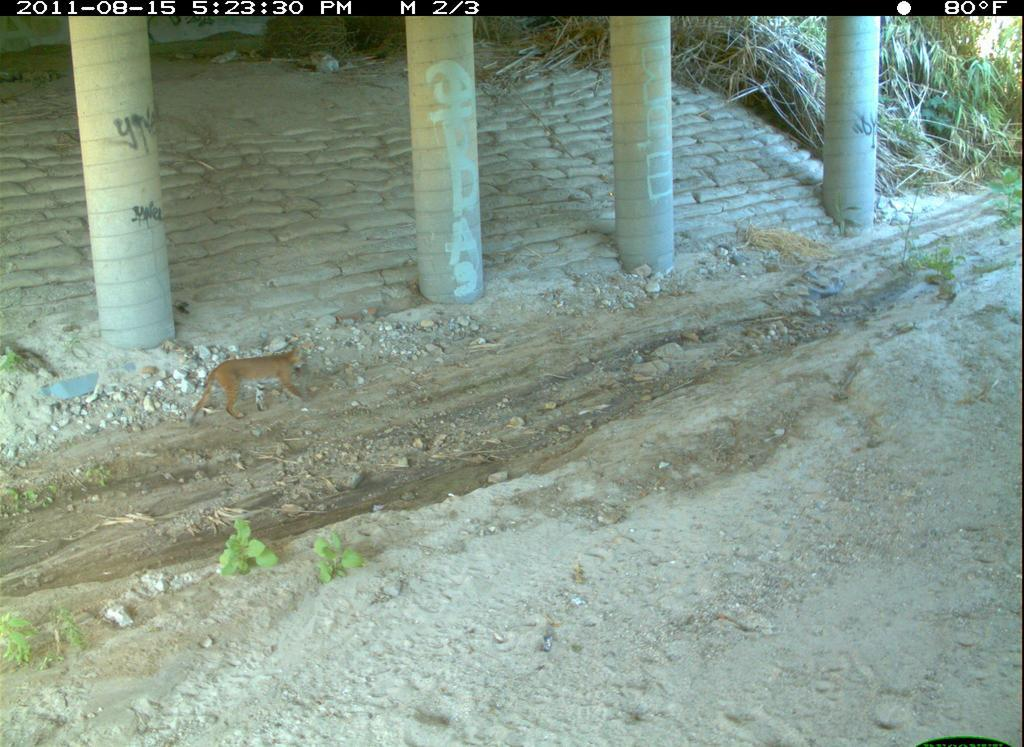bobcat: (362, 676, 624, 747)
rabbit: (590, 709, 638, 747)
